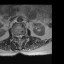CCS_normal: (18, 33, 20, 40)
LFS_stenosis: (22, 33, 24, 38)
LLS_normal: (20, 33, 22, 40)
RFS_stenosis: (14, 33, 16, 37)
RLS_normal: (16, 33, 18, 39)
